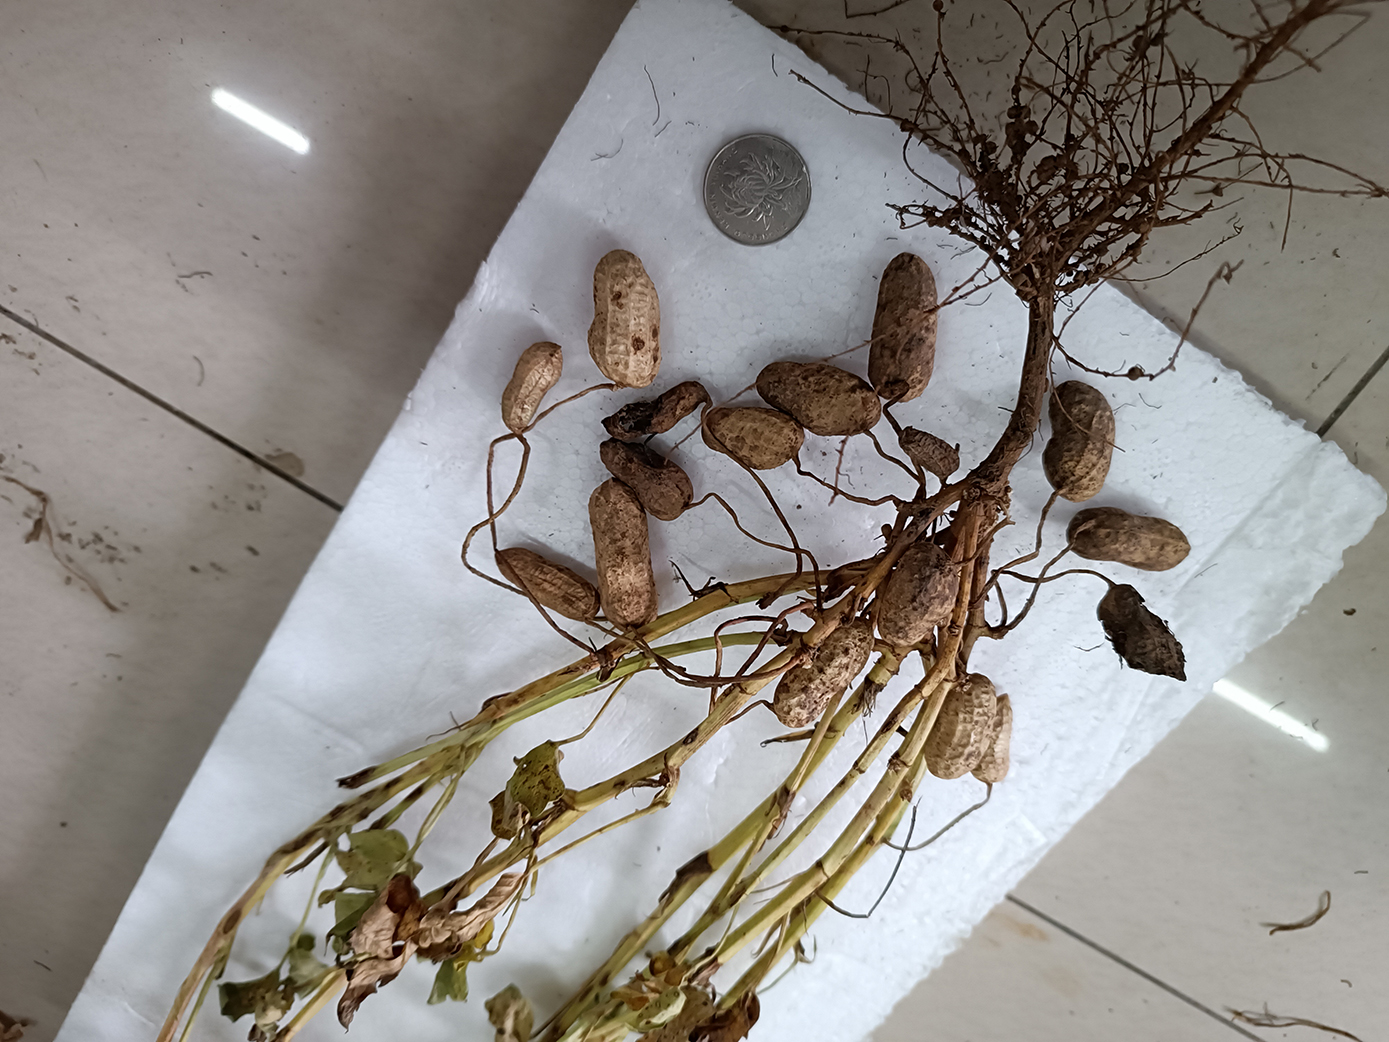h: (773, 618, 872, 728), (589, 477, 659, 630), (587, 248, 660, 387), (1041, 379, 1116, 503), (877, 542, 959, 647), (1066, 507, 1191, 572), (924, 673, 996, 779), (702, 406, 805, 471), (500, 341, 564, 433), (970, 692, 1014, 785)
l: (866, 252, 939, 404), (755, 360, 881, 437), (1096, 584, 1188, 683), (599, 435, 694, 522), (494, 548, 600, 621), (600, 380, 711, 441), (898, 425, 961, 478)
